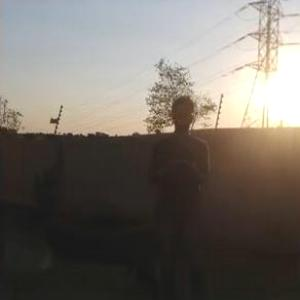follow: (140, 91, 214, 299)
